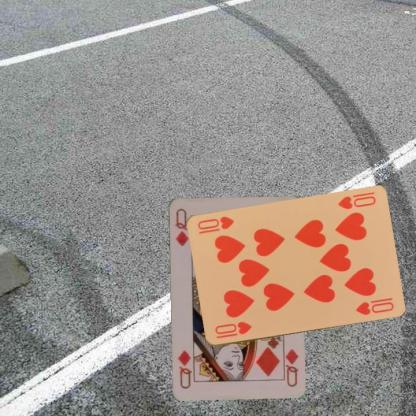10h: (335, 193, 377, 211), (212, 319, 253, 336)
Qd: (280, 343, 299, 388), (172, 206, 190, 247)
